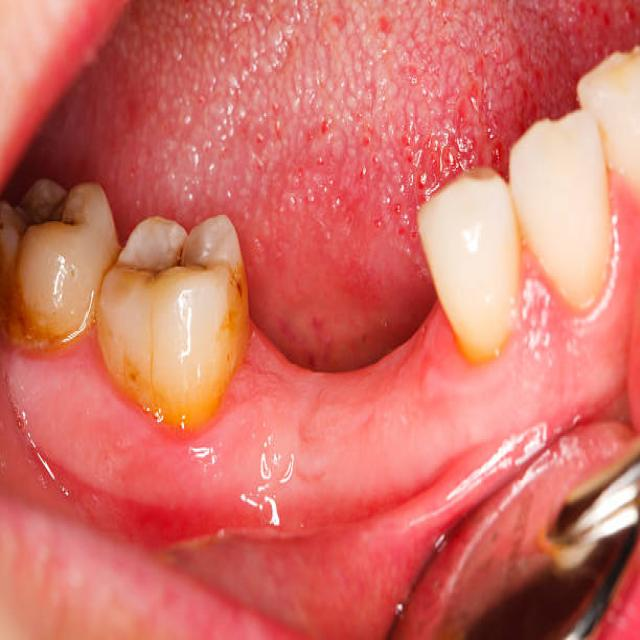caries: (13, 171, 86, 239), (138, 226, 208, 268)
